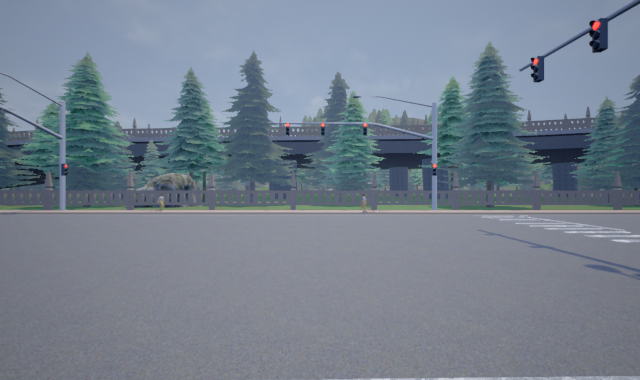pedestrian: (154, 191, 169, 211), (358, 191, 370, 212)
